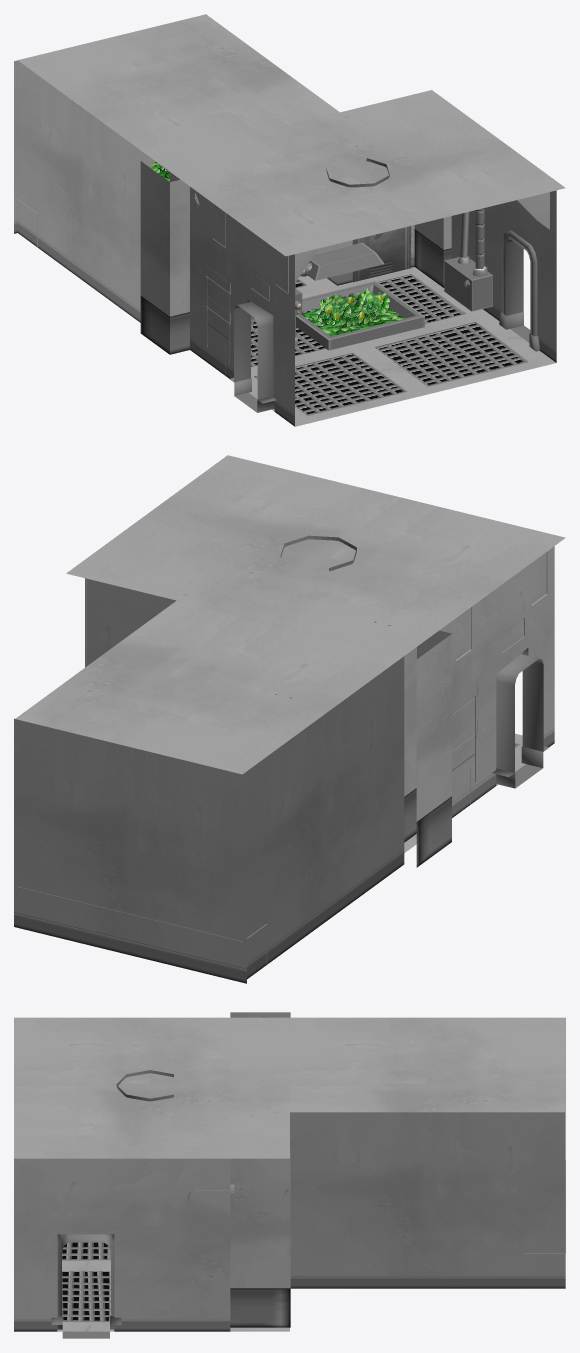
Rendered from MSH_Hydroponic_farm_room_L2_R1_optimized.fbx.
3 views of the same model, one above another, from view 1: azimuth 30°, elevation 25°; view 2: azimuth 150°, elevation 25°; view 3: azimuth 270°, elevation 25° (orthographic). The views are drawn at different scales.
Parts seen in each view (by area): view 1: lightmap1, lightmap-1; view 2: lightmap1, lightmap-1; view 3: lightmap1, lightmap-1.
Boxes of the visible parts, bbox=[...] form: lightmap1: bbox=[14, 14, 565, 426]; lightmap-1: bbox=[234, 239, 530, 412]; lightmap1: bbox=[14, 455, 565, 983]; lightmap-1: bbox=[496, 654, 543, 788]; lightmap1: bbox=[14, 1012, 565, 1331]; lightmap-1: bbox=[62, 1234, 110, 1338].
Size of the model in its own units: 10.52 by 6.03 by 16.51.
Materials: 6 (5 with a texture image).
